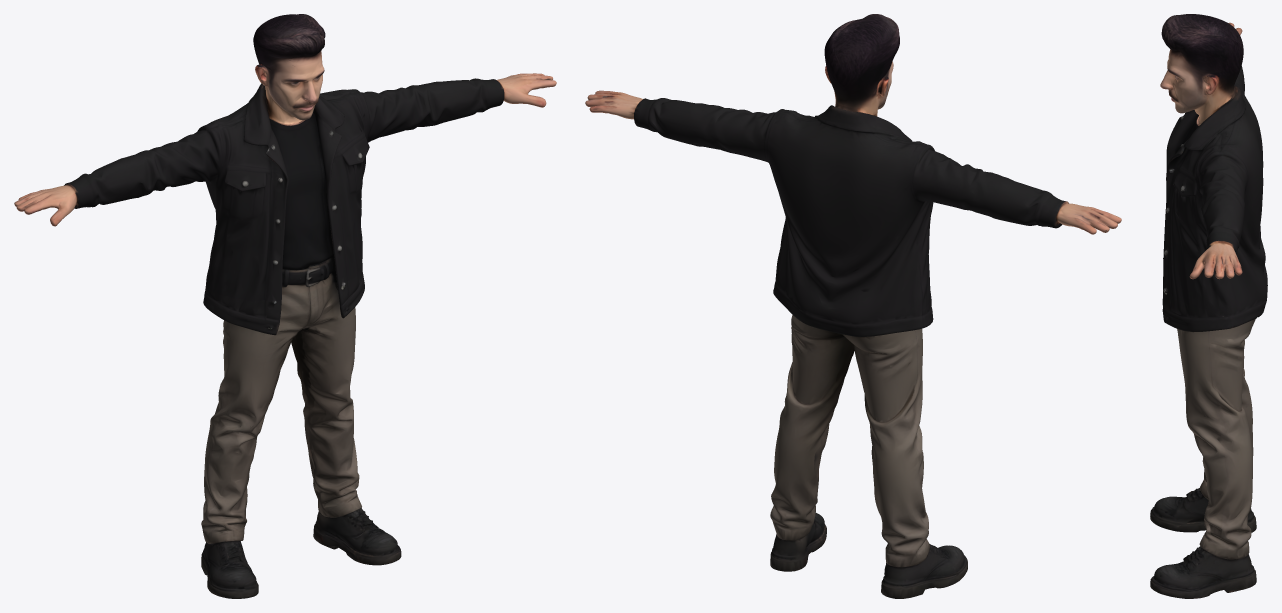
3 views of the same model, side by side, from view 1: azimuth 30°, elevation 25°; view 2: azimuth 150°, elevation 25°; view 3: azimuth 270°, elevation 25° (orthographic). The views are drawn at different scales.
Parts seen in each view (by area): view 1: node_0; view 2: node_0; view 3: node_0.
Part boxes in pixels (x1,y1,x2,y2): node_0: [14, 14, 556, 598]; node_0: [585, 14, 1121, 598]; node_0: [1150, 14, 1267, 598].
Size of the model in its own units: 107 by 105 by 20.77.
1 material, 1 textured.
